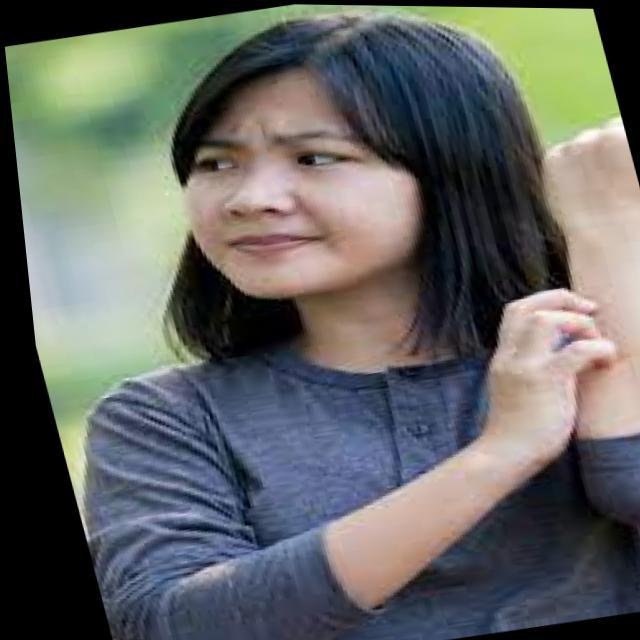Nonhelmet: (158, 10, 577, 367)
